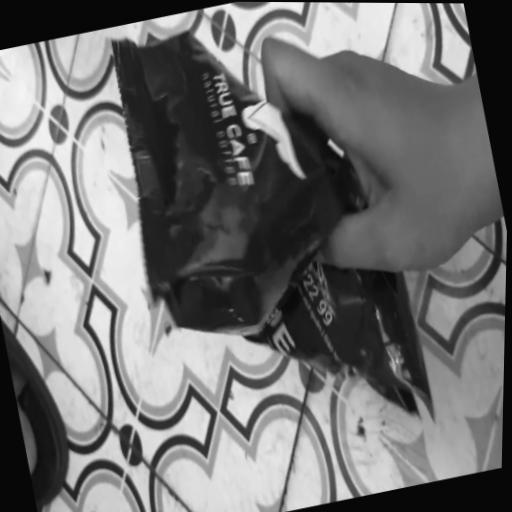cafe_hat: (111, 31, 429, 411)
